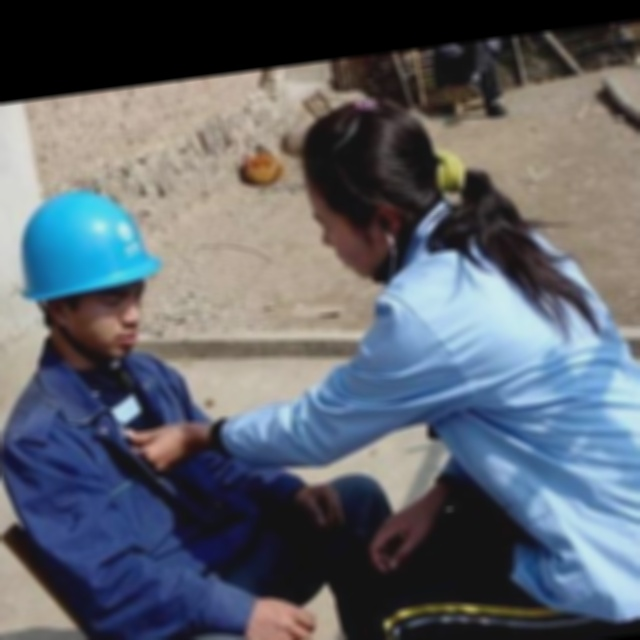Con_Casco: (5, 183, 173, 367)
Sin_Casco_Mascarrilla: (291, 91, 447, 282)
